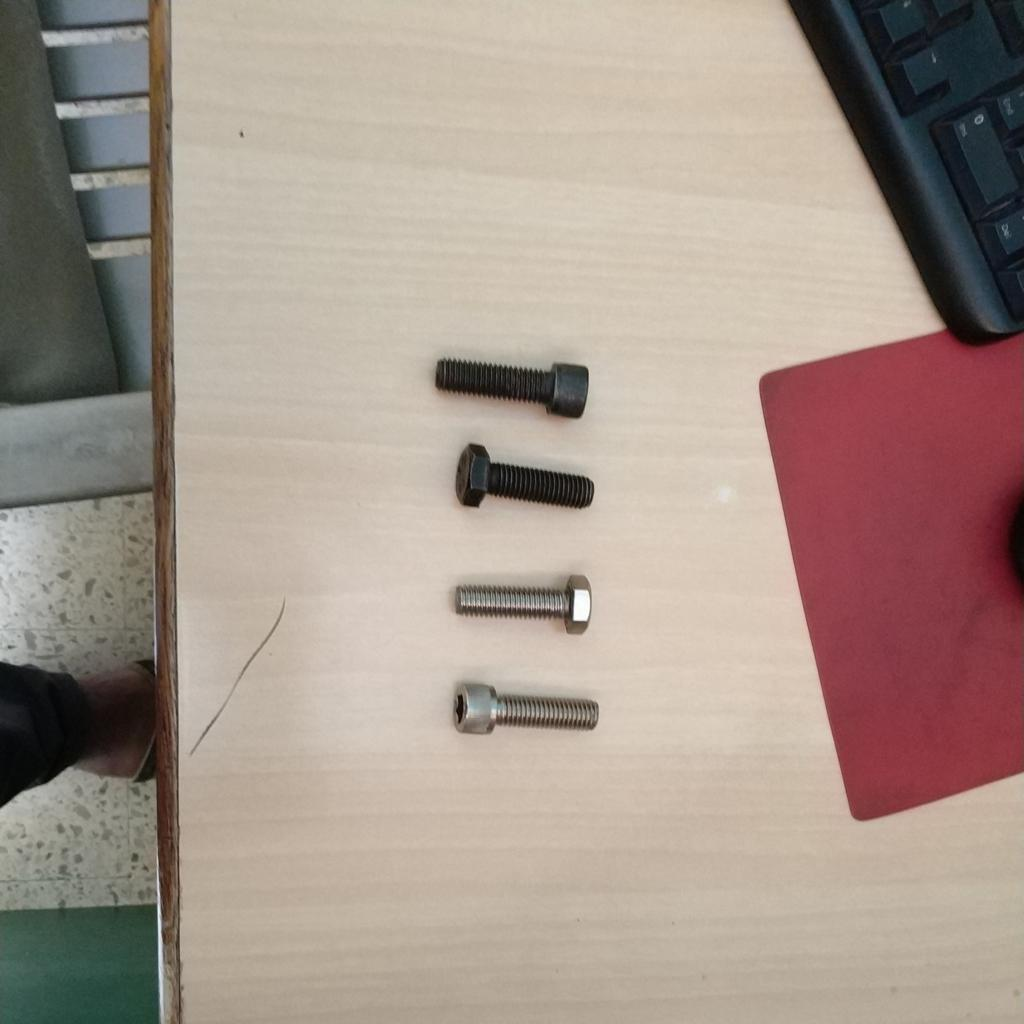screwtype1black: (425, 345, 592, 421)
screwtype1silver: (451, 678, 603, 741)
screwtype2black: (448, 437, 595, 520)
screwtype2silver: (455, 572, 592, 645)
